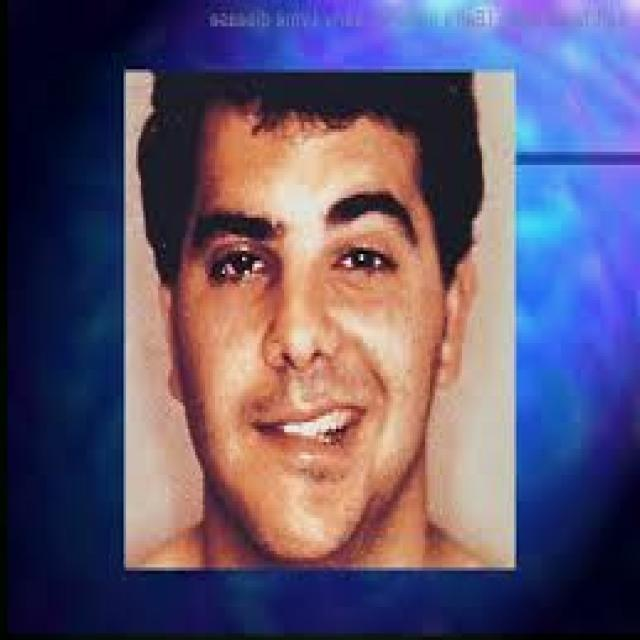stroke_face: (165, 64, 480, 558)
